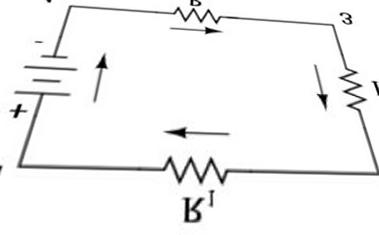resistor: (154, 145, 237, 185), (332, 56, 363, 115), (162, 5, 231, 24)
